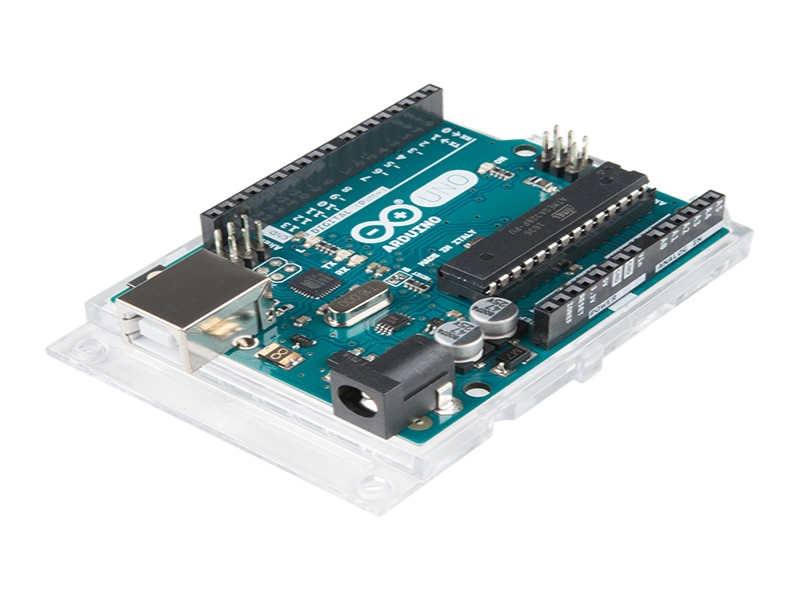uno: (101, 50, 748, 452)
